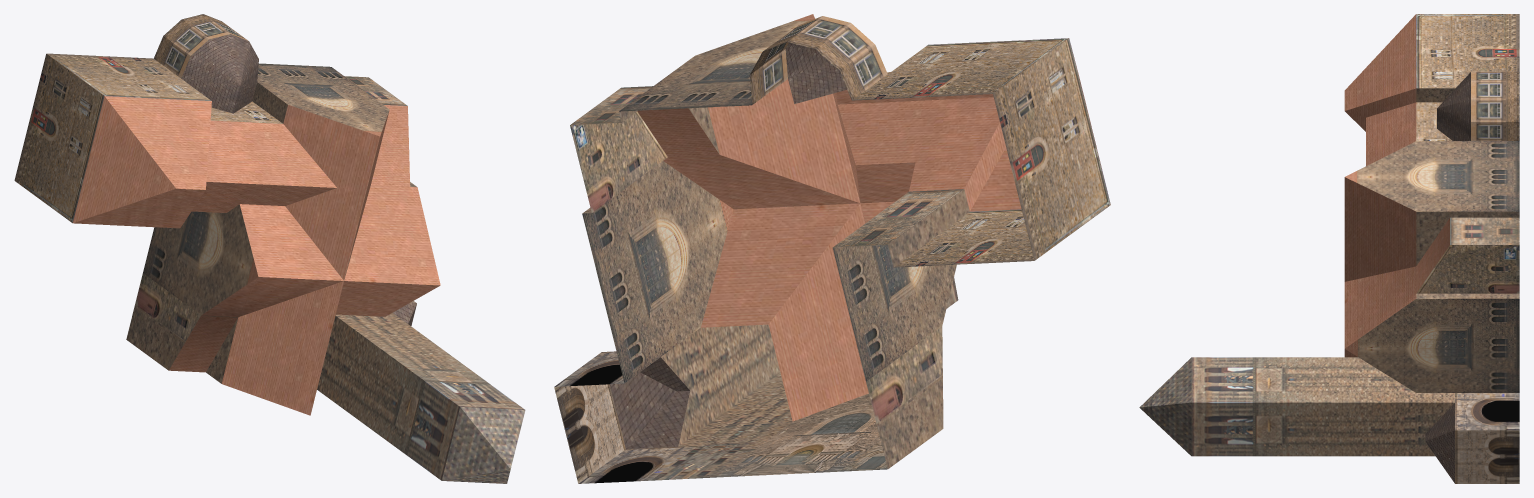
The model's file is DEU_602_KARLSRUHE_LUTHERK_L.OBJ.
The picture shows the model from 3 angles, left to right: view 1: azimuth 30°, elevation 25°; view 2: azimuth 150°, elevation 25°; view 3: azimuth 270°, elevation 25°; orthographic projection. The views are drawn at different scales.
Visible parts, largest first — view 1: DEU_602_KARLSRUHE_LUTHERK_L; view 2: DEU_602_KARLSRUHE_LUTHERK_L; view 3: DEU_602_KARLSRUHE_LUTHERK_L.
Boxes of the visible parts, x1,y1,x2,y2 form: DEU_602_KARLSRUHE_LUTHERK_L: [14, 14, 525, 483]; DEU_602_KARLSRUHE_LUTHERK_L: [554, 14, 1110, 483]; DEU_602_KARLSRUHE_LUTHERK_L: [1139, 14, 1519, 483].
Size of the model in its own units: 46.63 by 45.68 by 47.16.
Materials: 1 (1 with a texture image).
